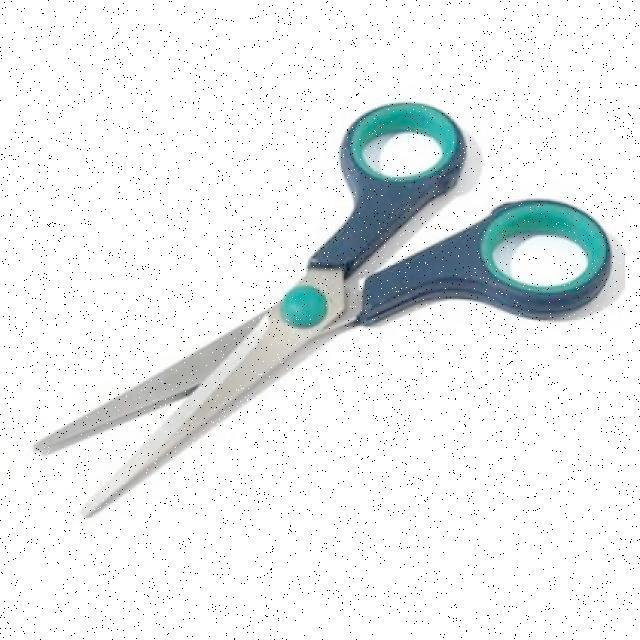scissors: (28, 93, 616, 526)
